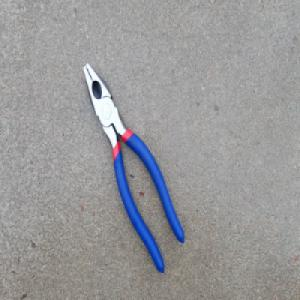Pliers: (81, 61, 186, 275)
